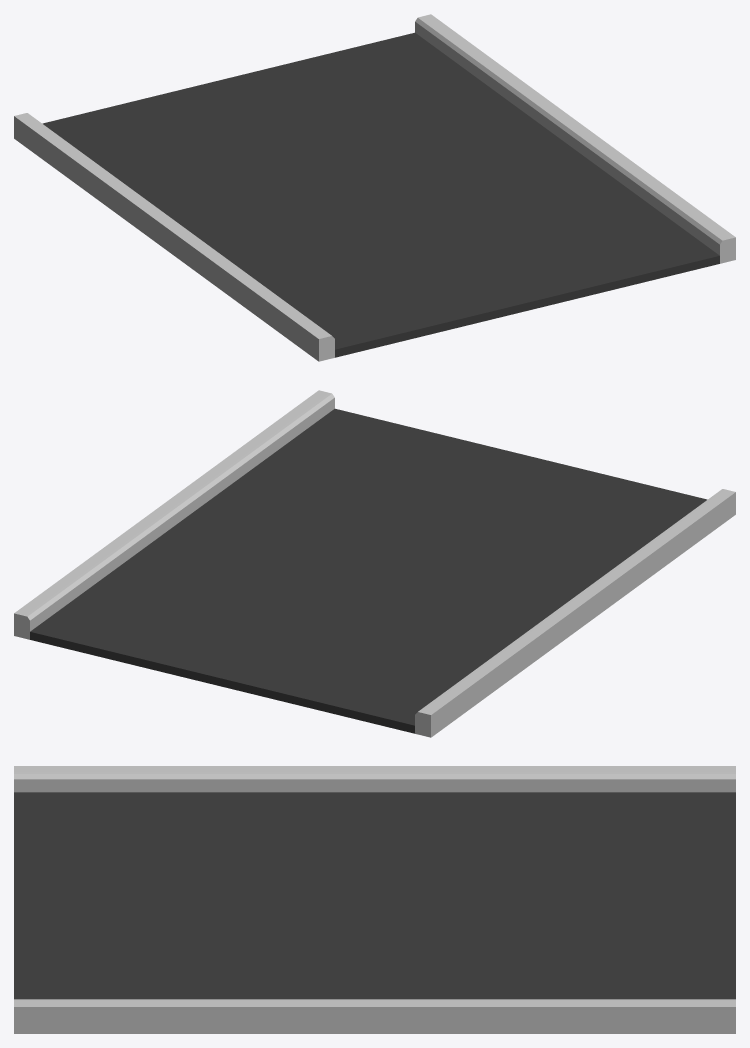
Rendered from street_flat.glb.
The picture shows the model from 3 angles, top to bottom: view 1: azimuth 30°, elevation 25°; view 2: azimuth 150°, elevation 25°; view 3: azimuth 270°, elevation 25°; orthographic projection. The views are drawn at different scales.
Parts seen in each view (by area): view 1: StreetFlat-col; view 2: StreetFlat-col; view 3: StreetFlat-col.
Part boxes in pixels (x1,y1,x2,y2): StreetFlat-col: (14, 14, 735, 361); StreetFlat-col: (14, 390, 735, 737); StreetFlat-col: (14, 766, 735, 1033).
Bounding box in the file's own units: 15.8 × 0.8169 × 20.
Materials: 1 (1 with a texture image).
